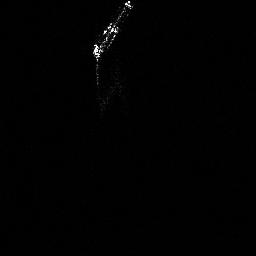ship: (92, 1, 134, 60)
